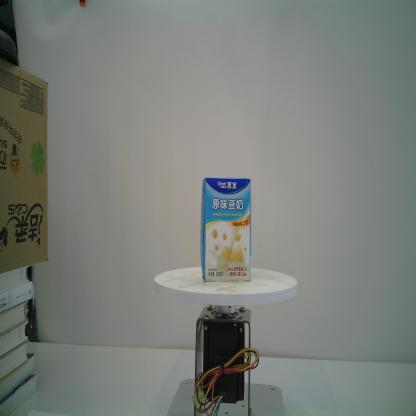Milk: (199, 177, 252, 283)
